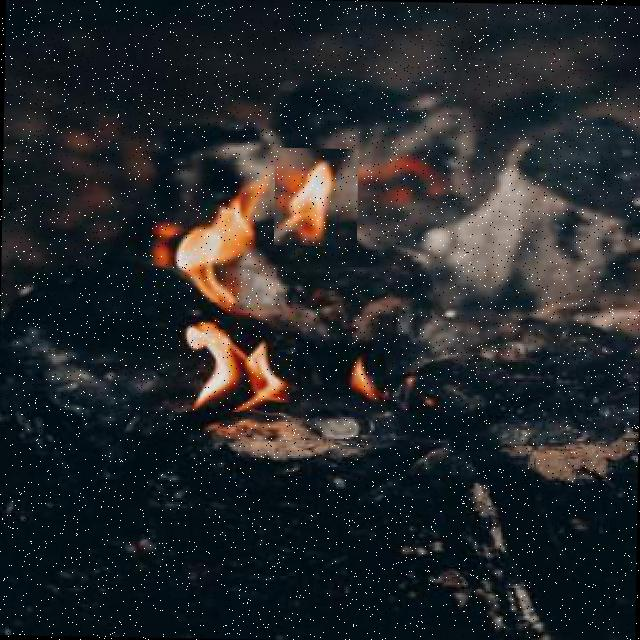fire: (130, 162, 278, 304), (168, 328, 300, 412), (273, 148, 358, 246), (348, 352, 386, 408)
